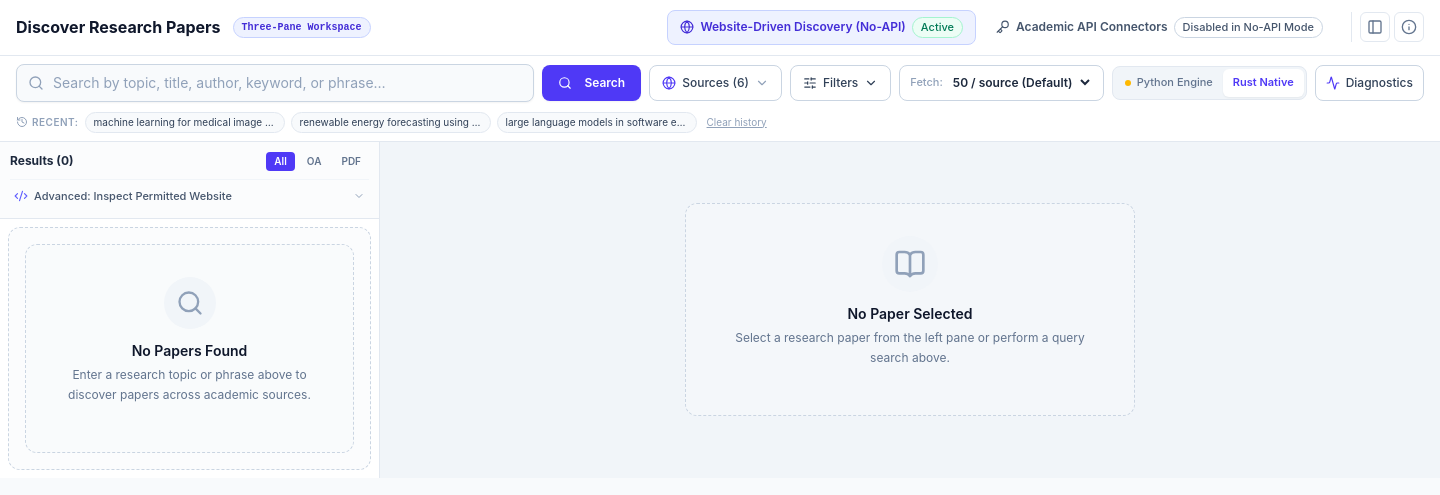
Test: Website-Driven Research Paper Discovery View (No-API Engine) › switches to Academic API Connectors tab and displays No-API policy warning
Click the button "Academic API Connectors Disabled in No-API Mode" at (1160,27), box [984,11,1335,44]
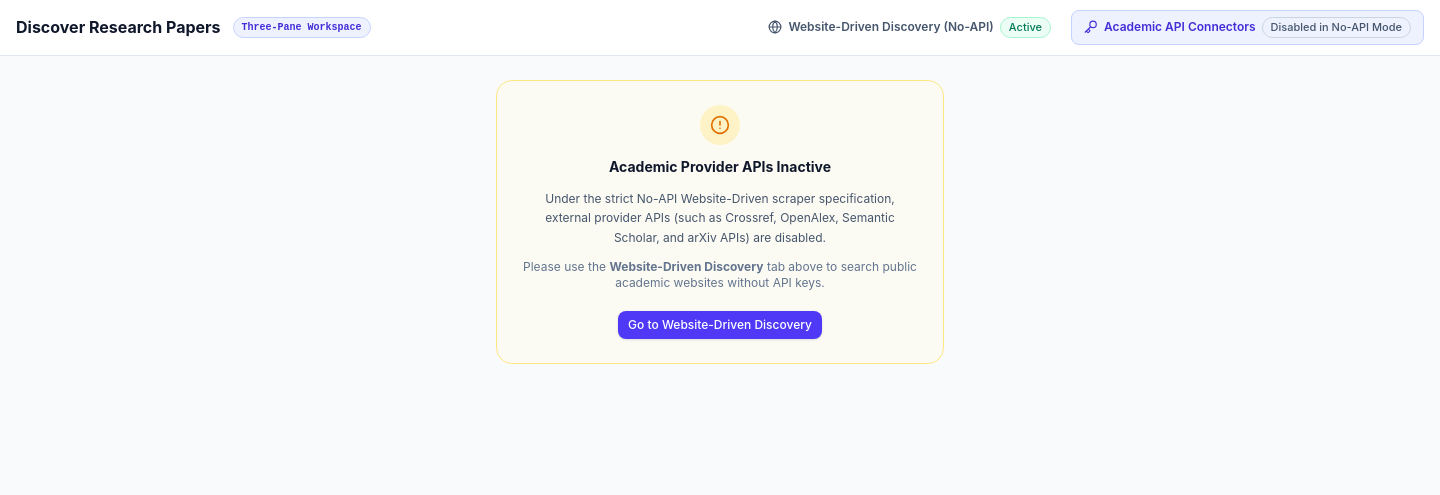
Now the heading "Academic Provider APIs Inactive" is shown, box [609,158,831,175]
Now the text "Under the strict No-API Website-Driven scraper specification" is shown, box [545,191,895,245]
